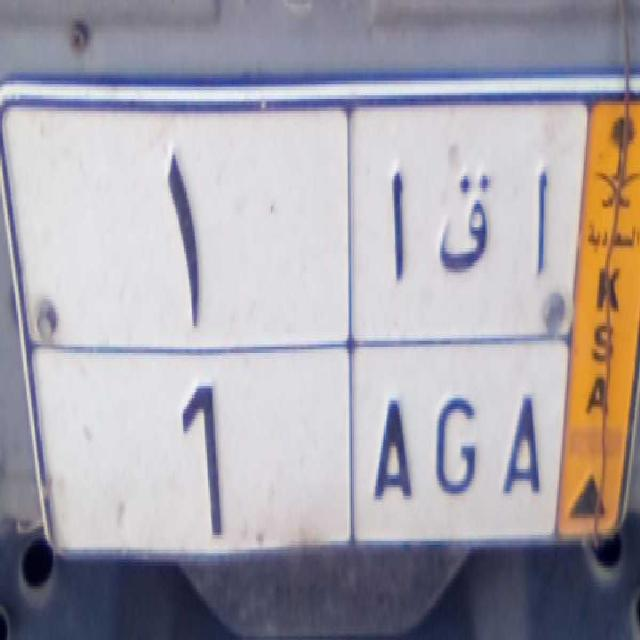license_plate: (26, 336, 558, 541)
